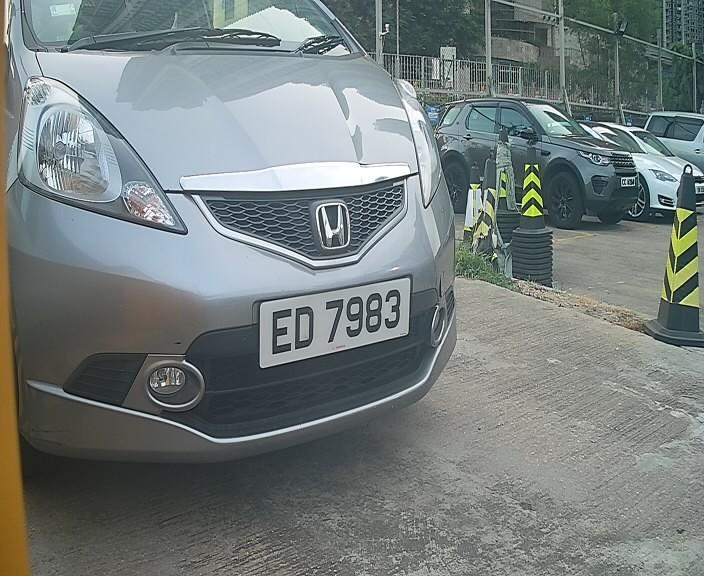privatecar: (10, 24, 478, 476)
